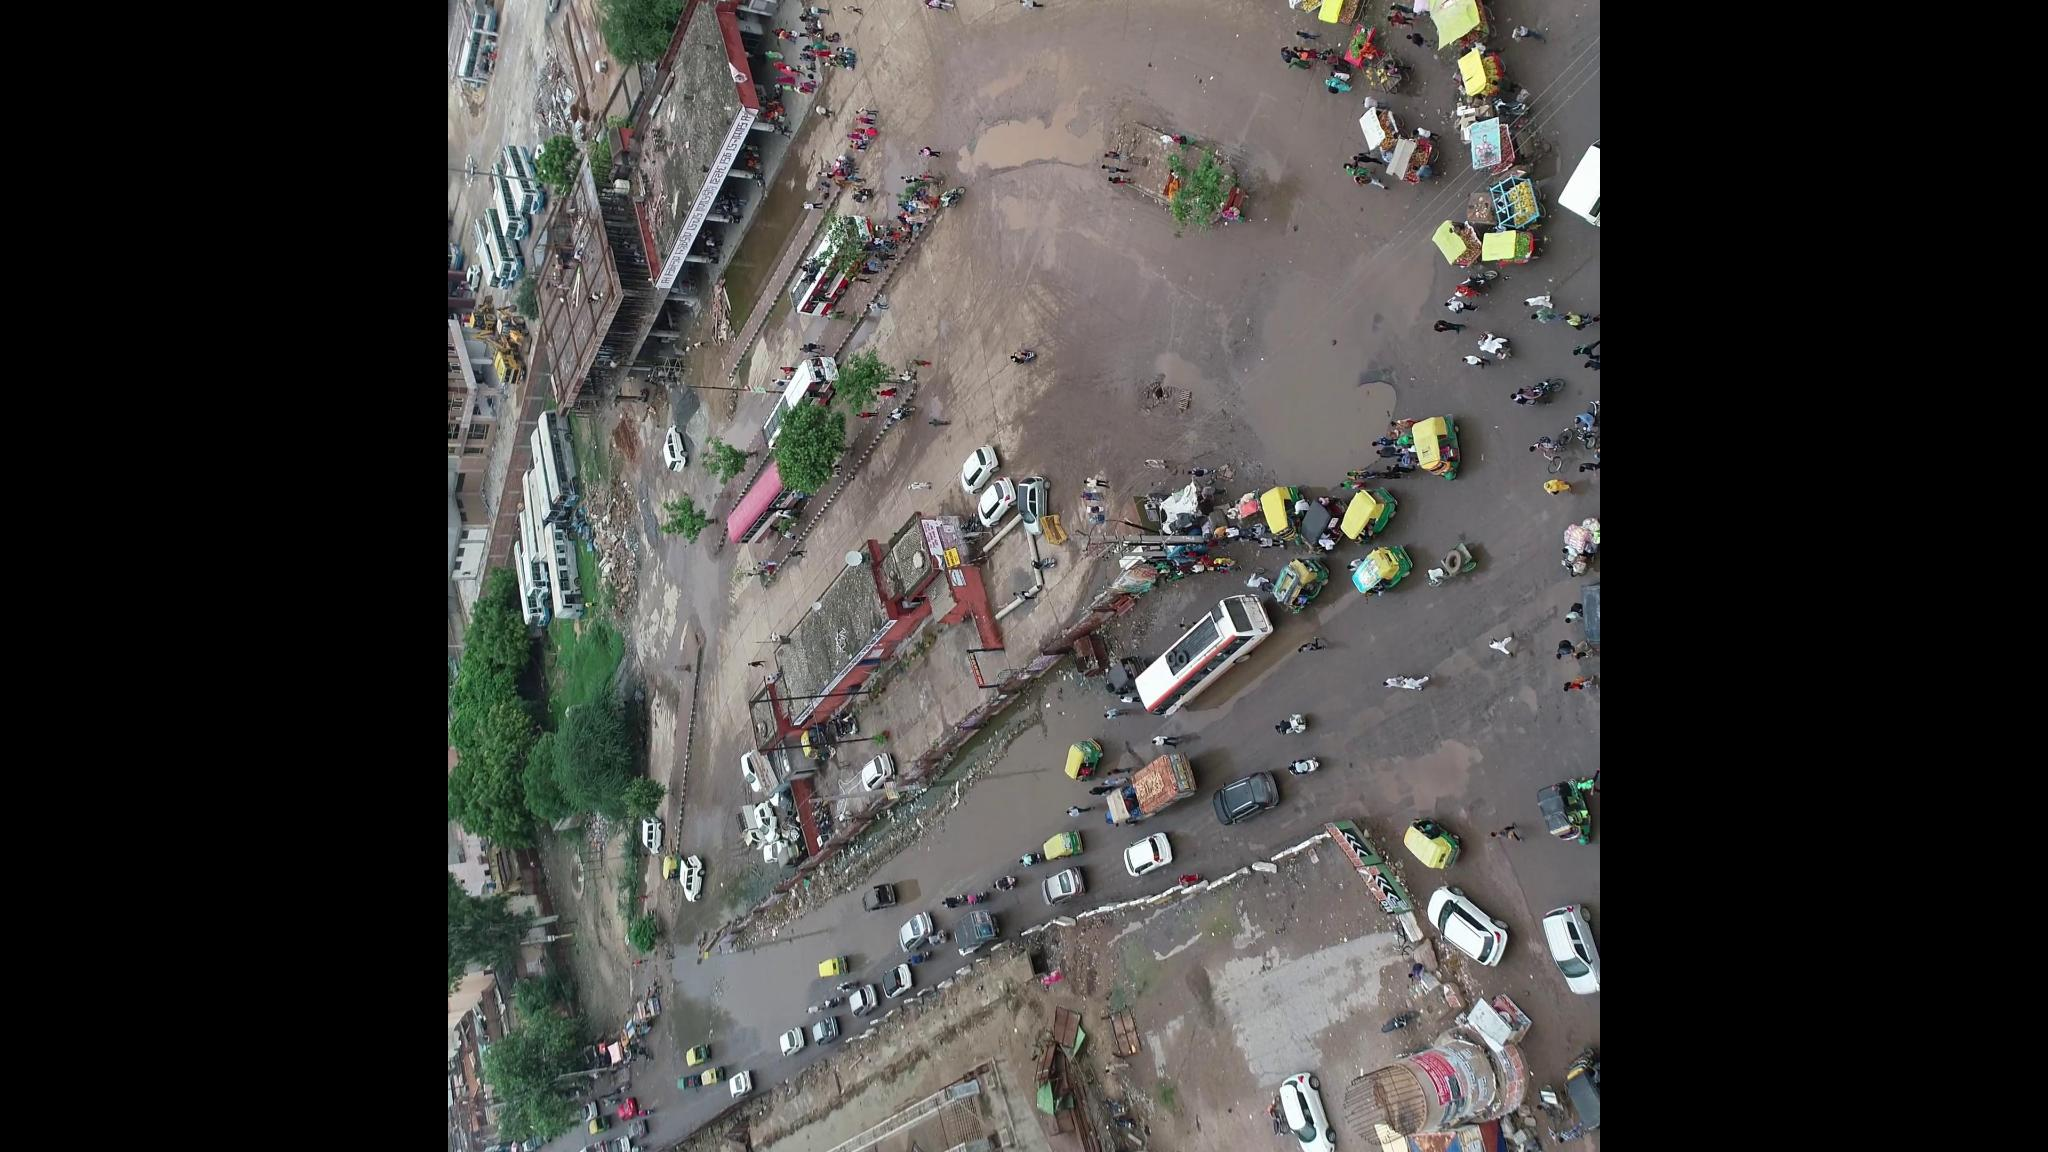Waterlogging: (911, 709, 1068, 885)
